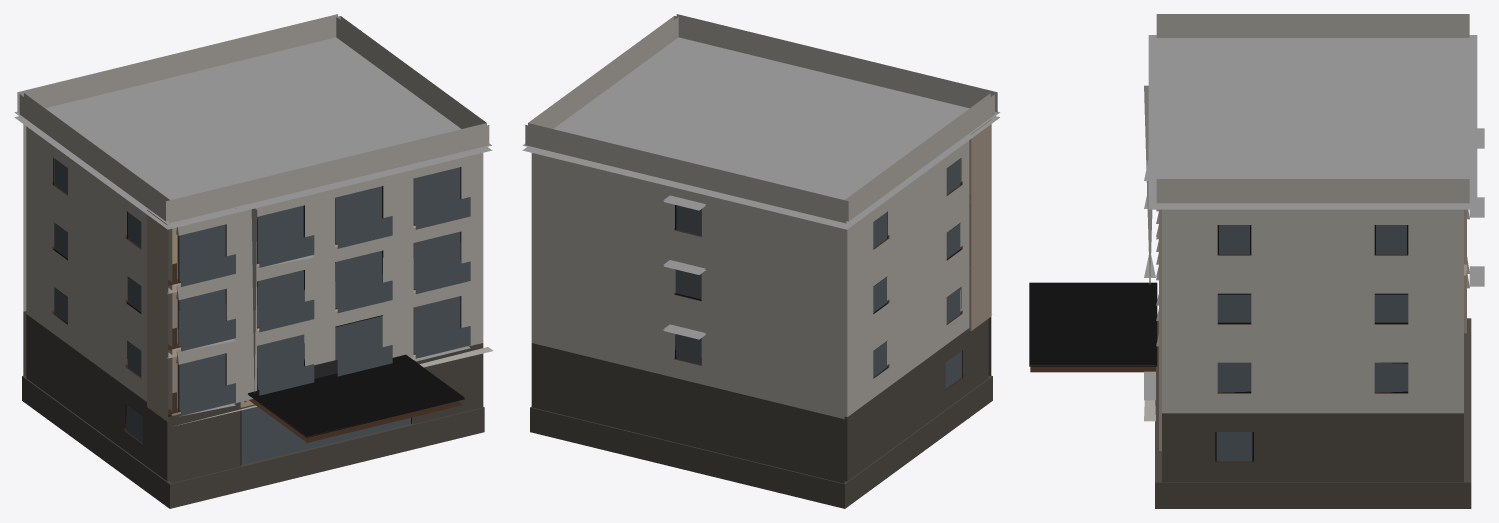
The model's file is hotel_16x13_4_far.glb.
3 renders of one model, left to right at view 1: azimuth 30°, elevation 25°; view 2: azimuth 150°, elevation 25°; view 3: azimuth 270°, elevation 25°, orthographic. The views are drawn at different scales.
Visible parts, largest first — view 1: hotel_16x13_4; view 2: hotel_16x13_4; view 3: hotel_16x13_4.
Part boxes in pixels (<box>): hotel_16x13_4: <box>14,14,493,508</box>; hotel_16x13_4: <box>522,14,1000,508</box>; hotel_16x13_4: <box>1029,14,1484,508</box>.
Bounding box in the file's own units: 16.6 × 15.04 × 18.86.
